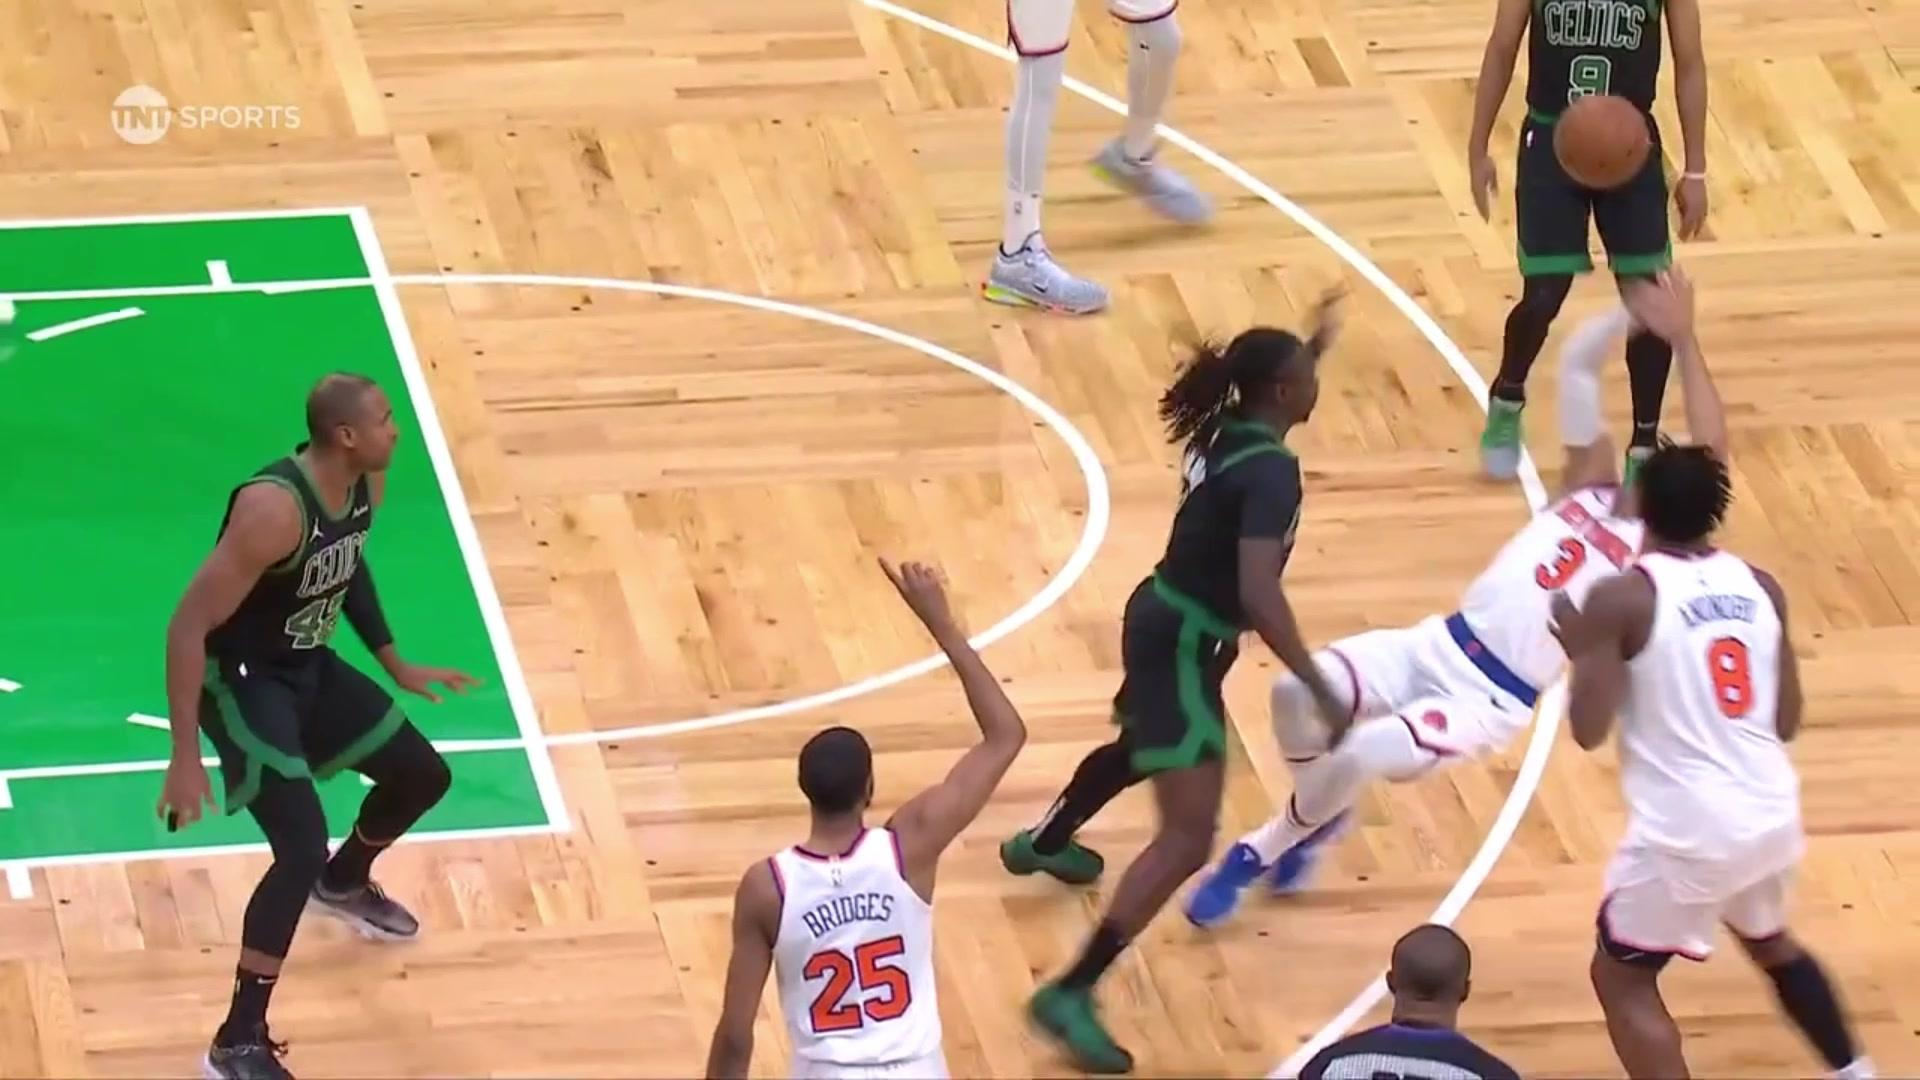foul: (1081, 248, 1753, 984)
